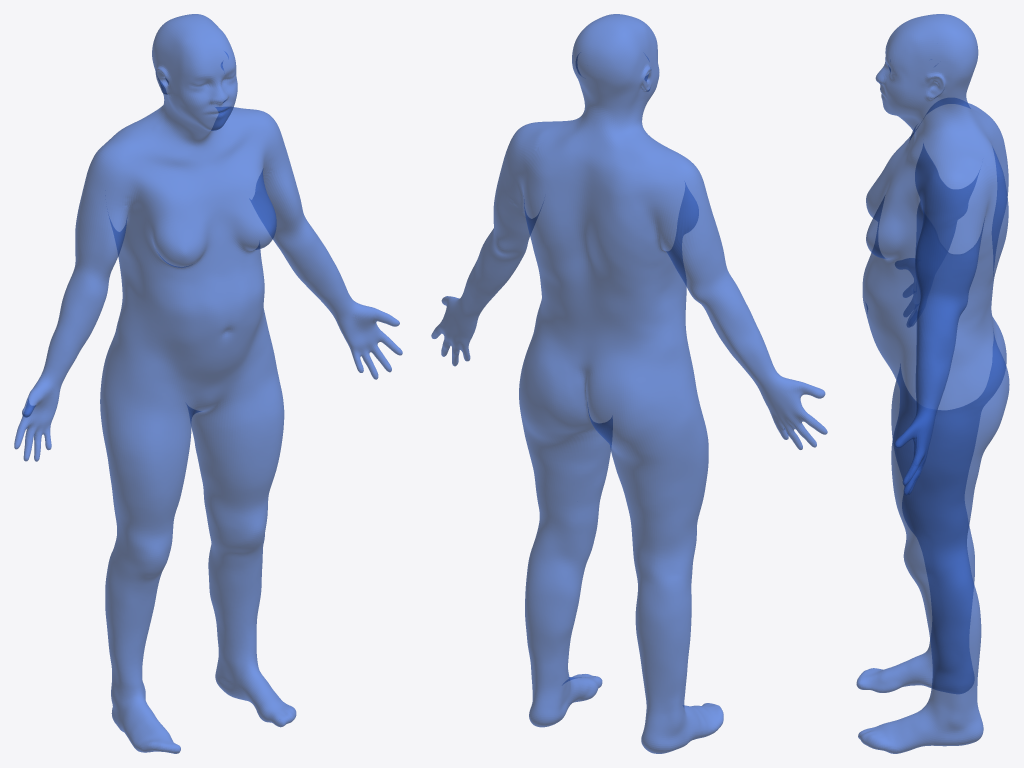
Rendered from 3d-vh-f-skin.glb.
3 renders of one model, left to right at view 1: azimuth 30°, elevation 25°; view 2: azimuth 150°, elevation 25°; view 3: azimuth 270°, elevation 25°, orthographic.
Visible parts, largest first — view 1: VH_F_skin; view 2: VH_F_skin; view 3: VH_F_skin.
Boxes of the visible parts, x1,y1,x2,y2 form: VH_F_skin: (14,14,402,753); VH_F_skin: (431,14,827,753); VH_F_skin: (856,14,1009,753).
Bounding box in the file's own units: 0.9617 × 1.66 × 0.3271.
